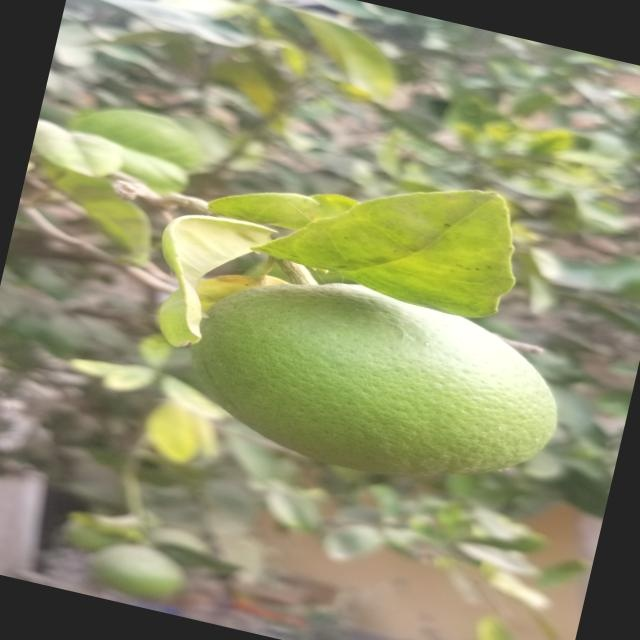agrume: (147, 240, 601, 550)
